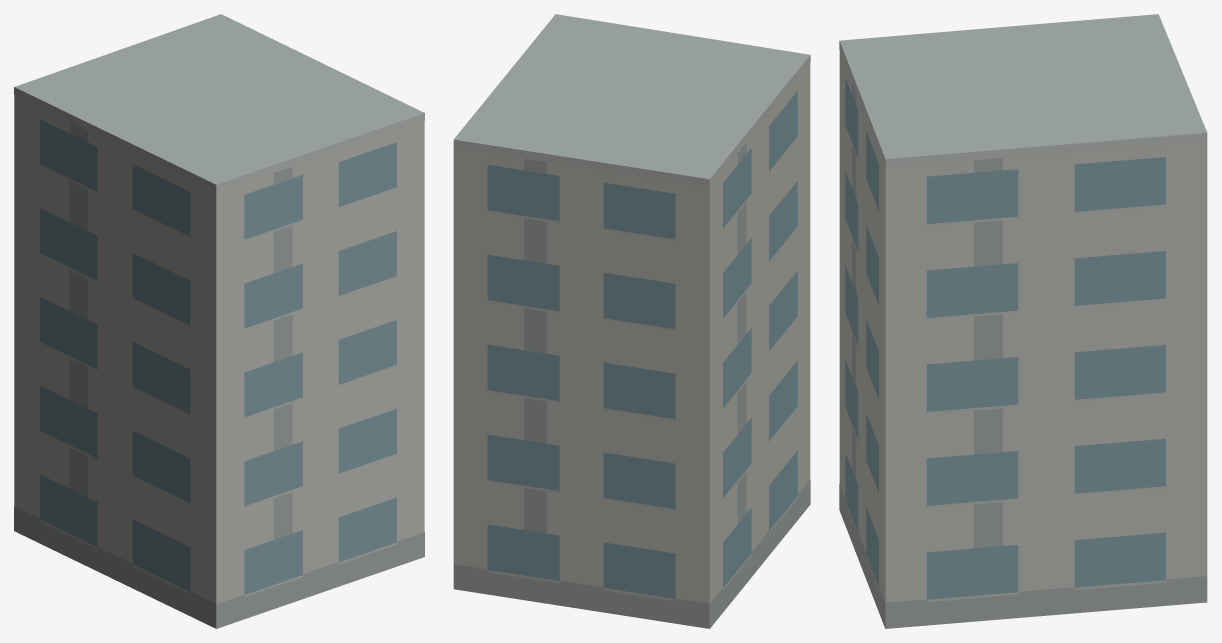
The model's file is survey-upis-32762025.glb.
3 renders of one model, left to right at view 1: azimuth 30°, elevation 25°; view 2: azimuth 150°, elevation 25°; view 3: azimuth 270°, elevation 25°, orthographic. The views are drawn at different scales.
Parts seen in each view (by area): view 1: survey-upis-32762025.tmp; view 2: survey-upis-32762025.tmp; view 3: survey-upis-32762025.tmp.
Part boxes in pixels (x1,y1,x2,y2): survey-upis-32762025.tmp: (14,14,424,628); survey-upis-32762025.tmp: (453,14,810,628); survey-upis-32762025.tmp: (839,14,1207,628).
Size of the model in its own units: 8.96 by 13.5 by 9.59.
